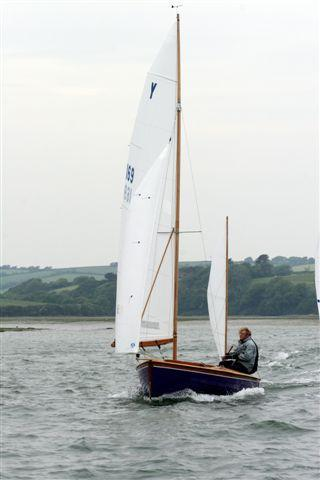Ship: (116, 15, 263, 404)
